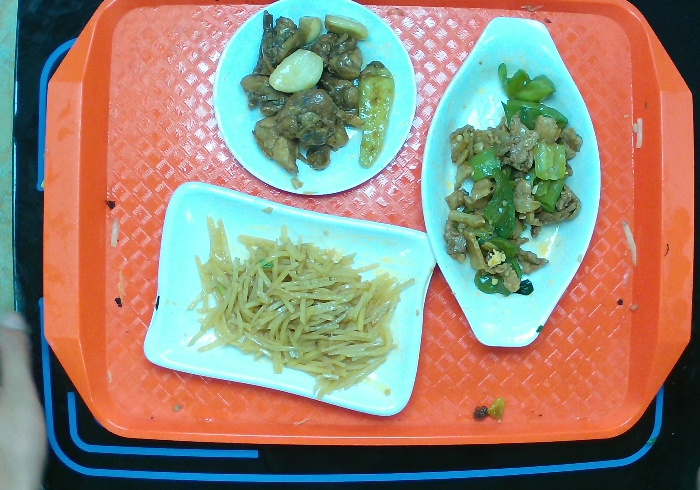RJxy-Si_Fang_Ao_Bian_Wan: (146, 183, 445, 420)
RJxy-Xiao_Yuan_Die: (222, 1, 422, 203)
RJxy-Yu_Pan: (421, 1, 609, 347)
